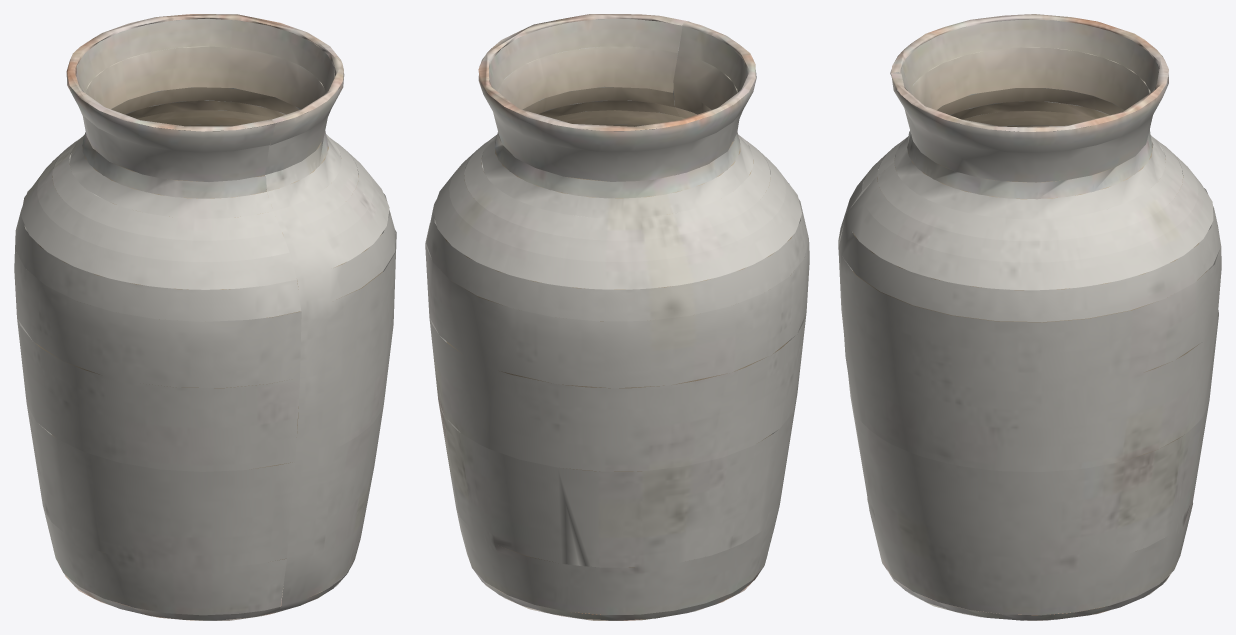
File: vase_white.glb
3 renders of one model, left to right at view 1: azimuth 30°, elevation 25°; view 2: azimuth 150°, elevation 25°; view 3: azimuth 270°, elevation 25°, orthographic.
Parts seen in each view (by area): view 1: ceramic_vase_02; view 2: ceramic_vase_02; view 3: ceramic_vase_02.
Part boxes in pixels (box(x1,y1,x2,y2)): ceramic_vase_02: box(14, 14, 396, 620); ceramic_vase_02: box(425, 14, 809, 620); ceramic_vase_02: box(838, 14, 1221, 620).
Size of the model in its own units: 0.2966 by 0.42 by 0.297.
Materials: 1 (1 with a texture image).
